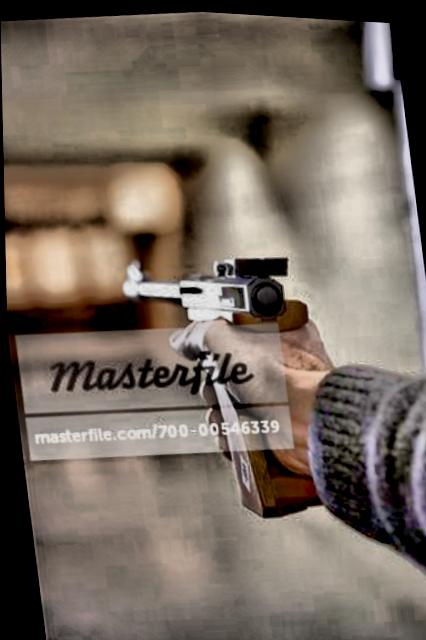pistol: (102, 223, 344, 528)
